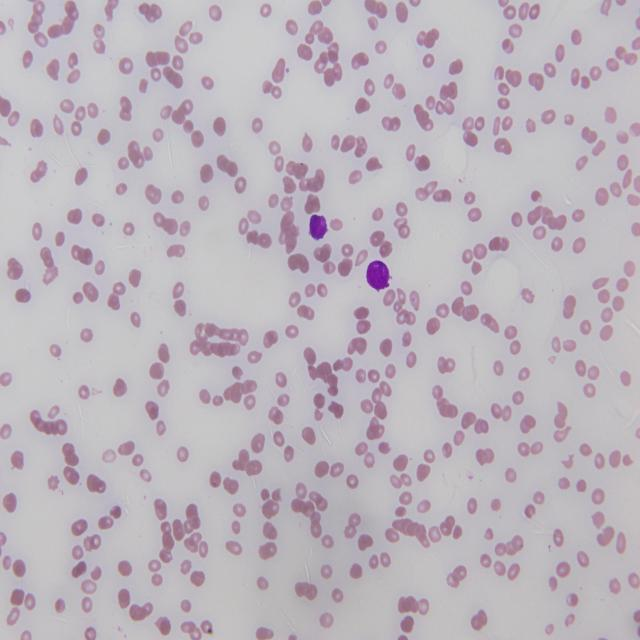cell: (366, 260, 390, 292), (310, 215, 328, 241)
